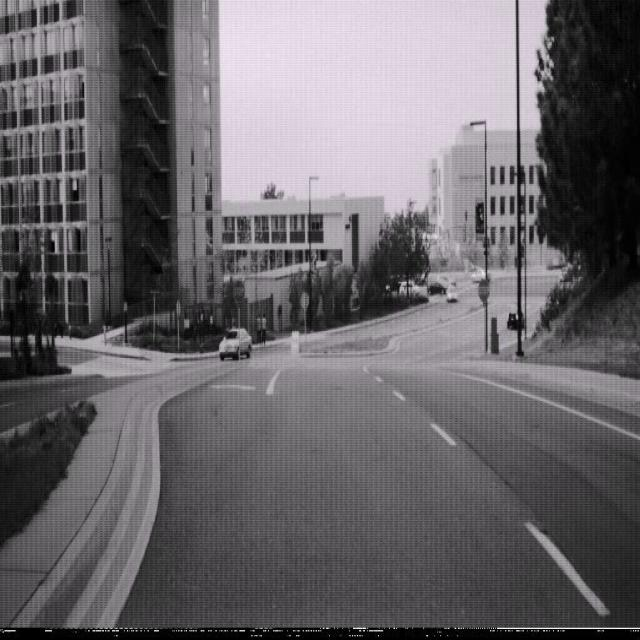stop: (477, 276, 491, 304), (232, 278, 245, 306)
